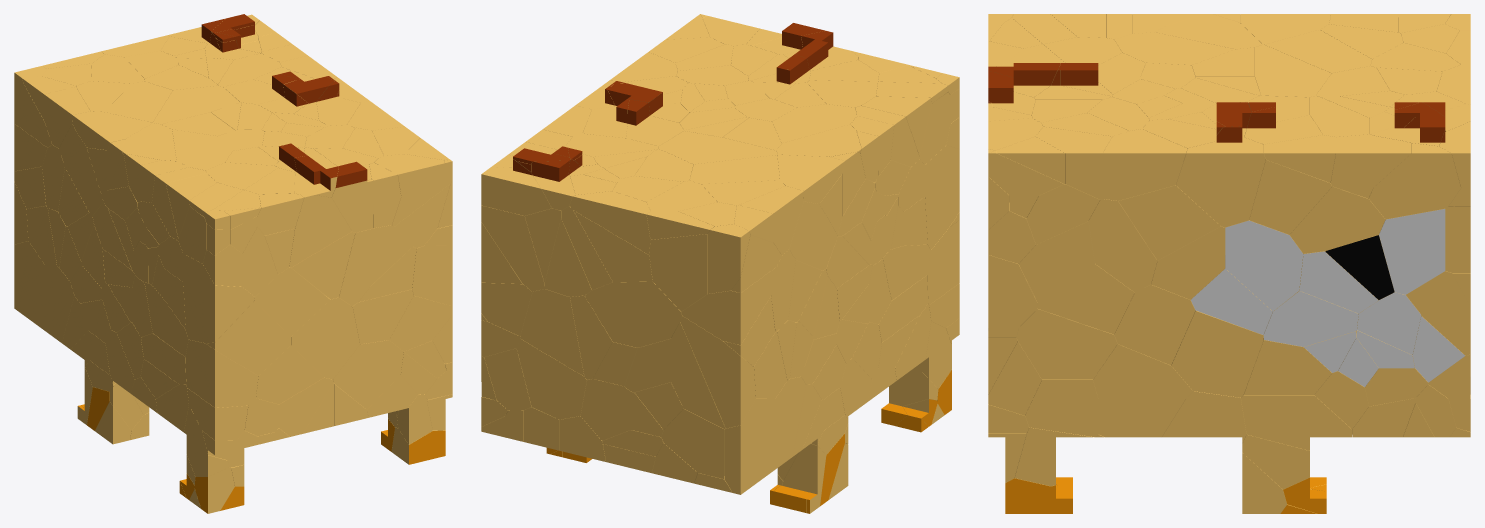
The model's file is dogo_desmontado.fbx.
The picture shows the model from 3 angles, left to right: view 1: azimuth 30°, elevation 25°; view 2: azimuth 150°, elevation 25°; view 3: azimuth 270°, elevation 25°; orthographic projection. The views are drawn at different scales.
Visible parts, largest first — view 1: Dogo_cell.045, Dogo_cell.039, Dogo_cell.159, Dogo_cell.155, Dogo_cell.013, Dogo_cell.239, Dogo_cell.203, Dogo_cell.283, Dogo_cell.027, Dogo_cell.171, Dogo_cell.033, Dogo_cell.134 (+116 smaller); view 2: Dogo_cell.265, Dogo_cell.251, Dogo_cell.283, Dogo_cell.190, Dogo_cell.011, Dogo_cell.170, Dogo_cell.057, Dogo_cell.146, Dogo_cell.240, Dogo_cell.045, Dogo_cell.129, Dogo_cell.274 (+119 smaller); view 3: Dogo_cell.044, Dogo_cell.199, Dogo_cell.241, Dogo_cell.036, Dogo_cell.103, Dogo_cell.105, Dogo_cell.070, Dogo_cell.220, Dogo_cell.139, Dogo_cell.004, Dogo_cell.230, Dogo_cell.061 (+98 smaller).
Part boxes in pixels (box(x1,y1,x2,y2)): Dogo_cell.045: box(183, 254, 254, 343); Dogo_cell.039: box(291, 296, 359, 379); Dogo_cell.159: box(185, 339, 258, 407); Dogo_cell.155: box(206, 301, 290, 375); Dogo_cell.013: box(333, 340, 403, 409); Dogo_cell.239: box(254, 267, 329, 336); Dogo_cell.203: box(289, 195, 351, 267); Dogo_cell.283: box(14, 241, 45, 331); Dogo_cell.027: box(256, 345, 323, 404); Dogo_cell.171: box(412, 245, 452, 306); Dogo_cell.033: box(352, 289, 413, 344); Dogo_cell.134: box(291, 231, 355, 299); Dogo_cell.265: box(584, 281, 682, 347); Dogo_cell.251: box(680, 316, 755, 428); Dogo_cell.283: box(724, 398, 775, 494); Dogo_cell.190: box(649, 234, 707, 311); Dogo_cell.011: box(516, 339, 586, 419); Dogo_cell.170: box(681, 267, 776, 344); Dogo_cell.057: box(520, 289, 584, 376); Dogo_cell.146: box(569, 191, 650, 254); Dogo_cell.240: box(661, 409, 724, 478); Dogo_cell.045: box(925, 145, 959, 249); Dogo_cell.129: box(481, 205, 544, 291); Dogo_cell.274: box(481, 159, 551, 215); Dogo_cell.044: box(1176, 126, 1265, 227); Dogo_cell.199: box(1171, 310, 1263, 397); Dogo_cell.241: box(1225, 220, 1303, 311); Dogo_cell.036: box(1016, 309, 1117, 379); Dogo_cell.103: box(1102, 129, 1187, 200); Dogo_cell.105: box(1368, 143, 1460, 219); Dogo_cell.070: box(1379, 208, 1445, 294); Dogo_cell.220: box(1241, 395, 1351, 450); Dogo_cell.139: box(1114, 284, 1195, 365); Dogo_cell.004: box(1118, 185, 1220, 260); Dogo_cell.230: box(1088, 199, 1157, 292); Dogo_cell.061: box(1290, 186, 1385, 253).
Size of the model in its own units: 399 by 502 by 584.
